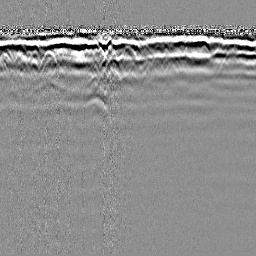cavity: (117, 45, 138, 61)
